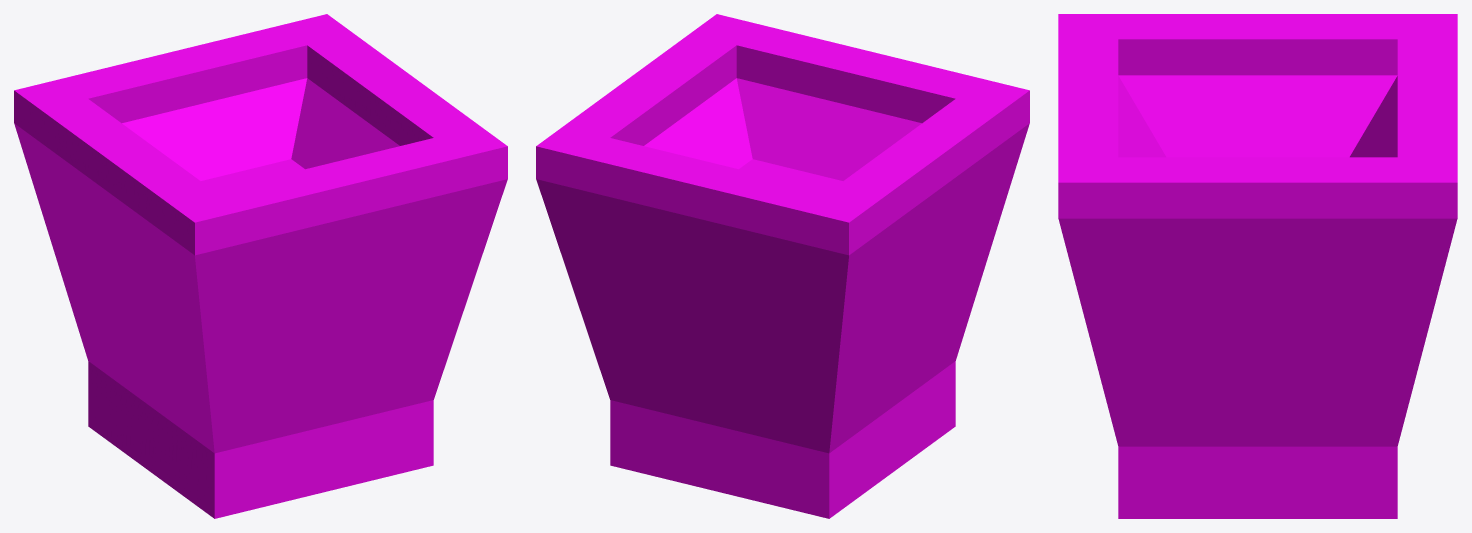
File: chute.obj
3 views of the same model, side by side, from view 1: azimuth 30°, elevation 25°; view 2: azimuth 150°, elevation 25°; view 3: azimuth 270°, elevation 25° (orthographic). The views are drawn at different scales.
Parts seen in each view (by area): view 1: Chute_chutemdl; view 2: Chute_chutemdl; view 3: Chute_chutemdl.
Part boxes in pixels (x1=…): Chute_chutemdl: x1=14, y1=14, x2=507, y2=518; Chute_chutemdl: x1=536, y1=14, x2=1029, y2=518; Chute_chutemdl: x1=1058, y1=14, x2=1457, y2=518.
Size of the model in its own units: 1 by 1 by 1.
